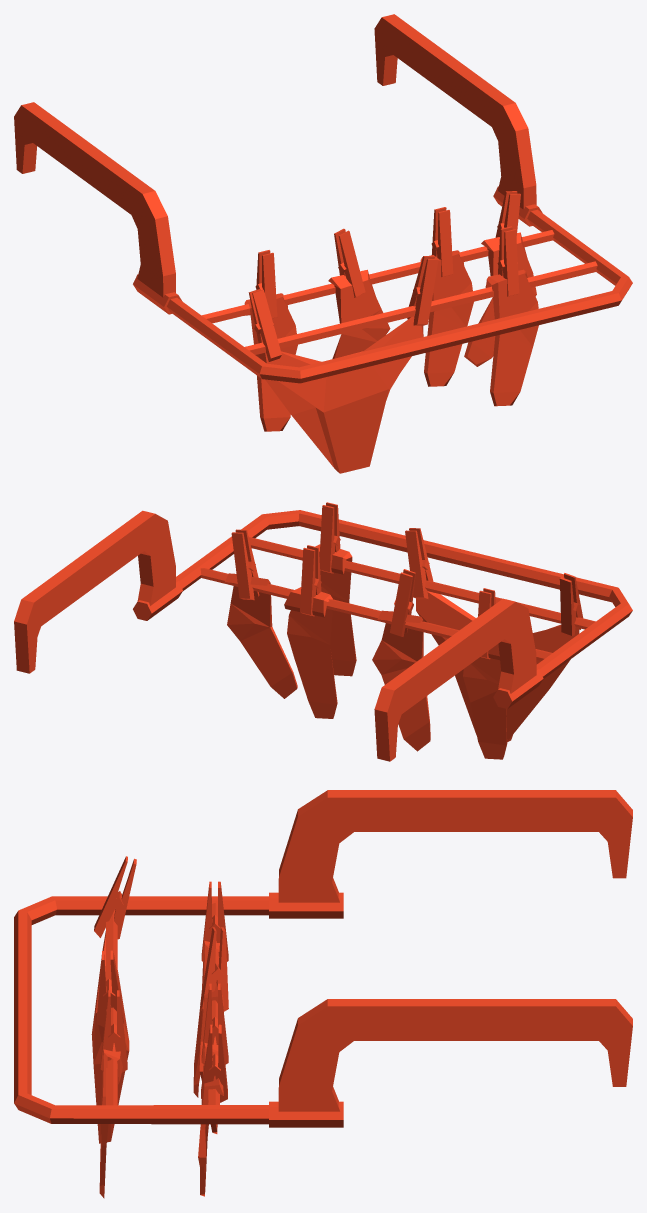
The model's file is SM_Drying_Rack_B_City.fbx.
The picture shows the model from 3 angles, top to bottom: view 1: azimuth 30°, elevation 25°; view 2: azimuth 150°, elevation 25°; view 3: azimuth 270°, elevation 25°; orthographic projection. The views are drawn at different scales.
Visible parts, largest first — view 1: SM_Drying_Rack_B_City; view 2: SM_Drying_Rack_B_City; view 3: SM_Drying_Rack_B_City.
Boxes of the visible parts, x1,y1,x2,y2 form: SM_Drying_Rack_B_City: (14, 14, 632, 473); SM_Drying_Rack_B_City: (14, 502, 632, 761); SM_Drying_Rack_B_City: (14, 790, 632, 1198).
Size of the model in its own units: 0.811 by 0.4777 by 0.9649.
